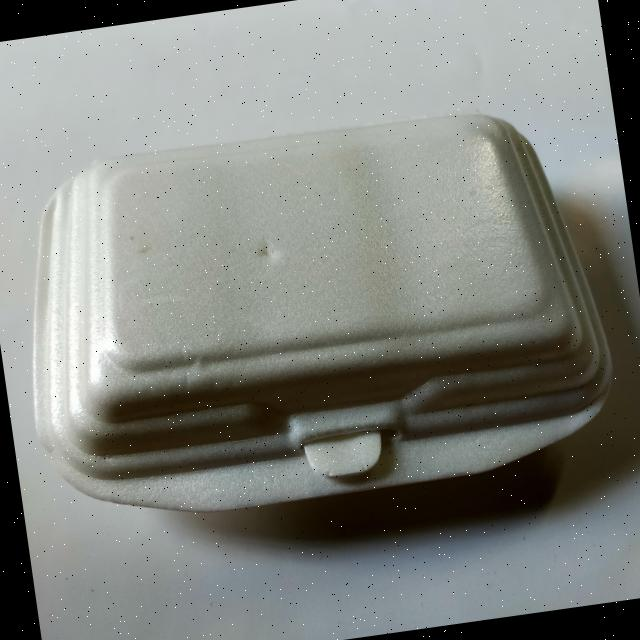styrofoam: (0, 89, 627, 538)
